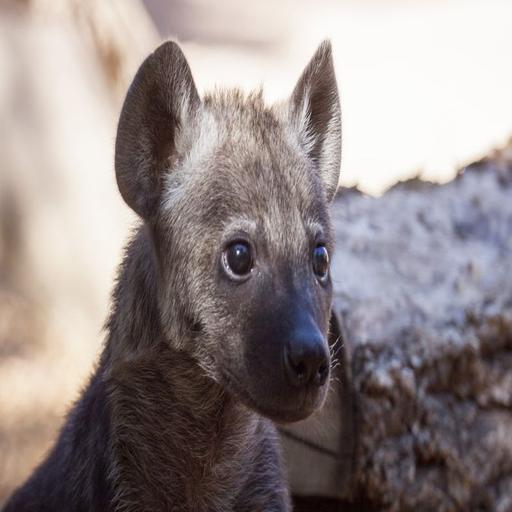Hyena: (0, 33, 363, 512)
